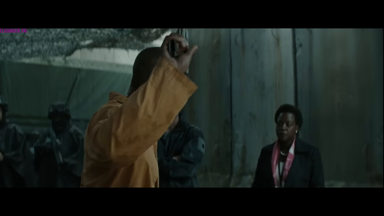firearm: (37, 124, 67, 169), (166, 28, 192, 61)
